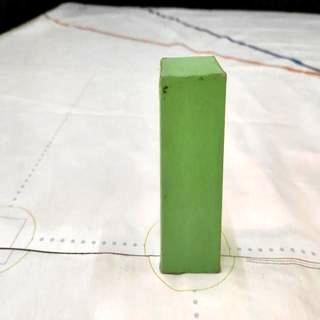greenbox: (160, 57, 226, 276)
